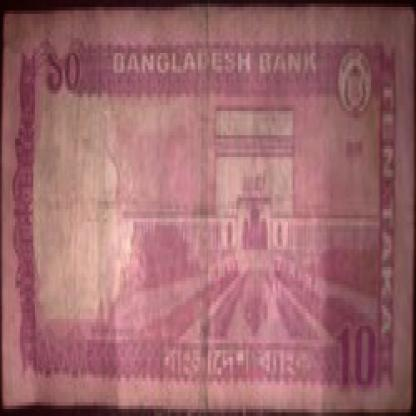Ten Taka: (39, 28, 102, 128), (324, 312, 388, 402)
